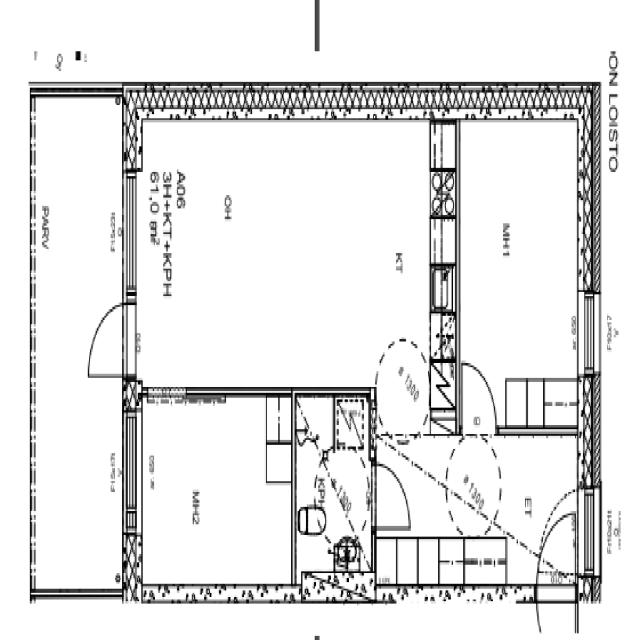door: (538, 501, 578, 586), (371, 455, 413, 535), (458, 355, 500, 435), (86, 298, 127, 378)
window: (119, 168, 141, 304), (576, 477, 602, 581), (120, 408, 142, 528), (578, 283, 603, 386)
zone: (132, 113, 461, 398), (455, 118, 577, 432), (132, 398, 292, 594), (375, 435, 579, 585), (294, 394, 375, 600)
